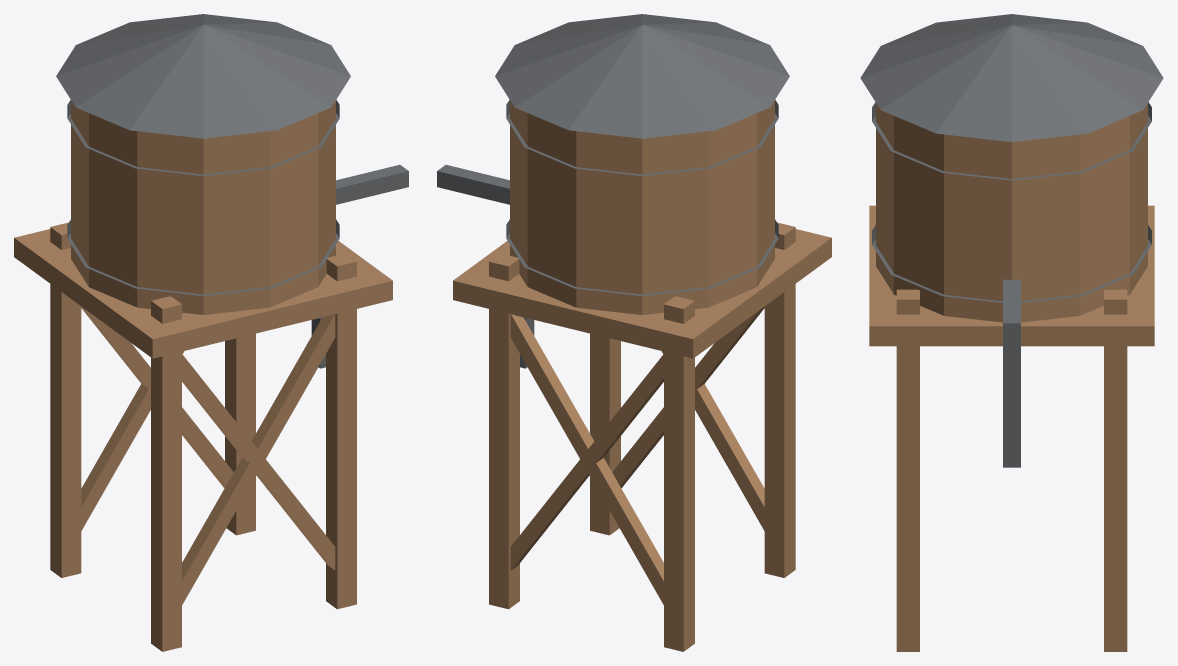
Rendered from frontier-water-tower__127.glb.
The picture shows the model from 3 angles, left to right: view 1: azimuth 30°, elevation 25°; view 2: azimuth 150°, elevation 25°; view 3: azimuth 270°, elevation 25°; orthographic projection. The views are drawn at different scales.
Parts seen in each view (by area): view 1: frontier-post-water-tower; view 2: frontier-post-water-tower; view 3: frontier-post-water-tower.
Part boxes in pixels (<box>): frontier-post-water-tower: <box>14,14,408,651</box>; frontier-post-water-tower: <box>437,14,831,651</box>; frontier-post-water-tower: <box>860,14,1163,651</box>.
Size of the model in its own units: 3.01 by 4.92 by 2.34.
